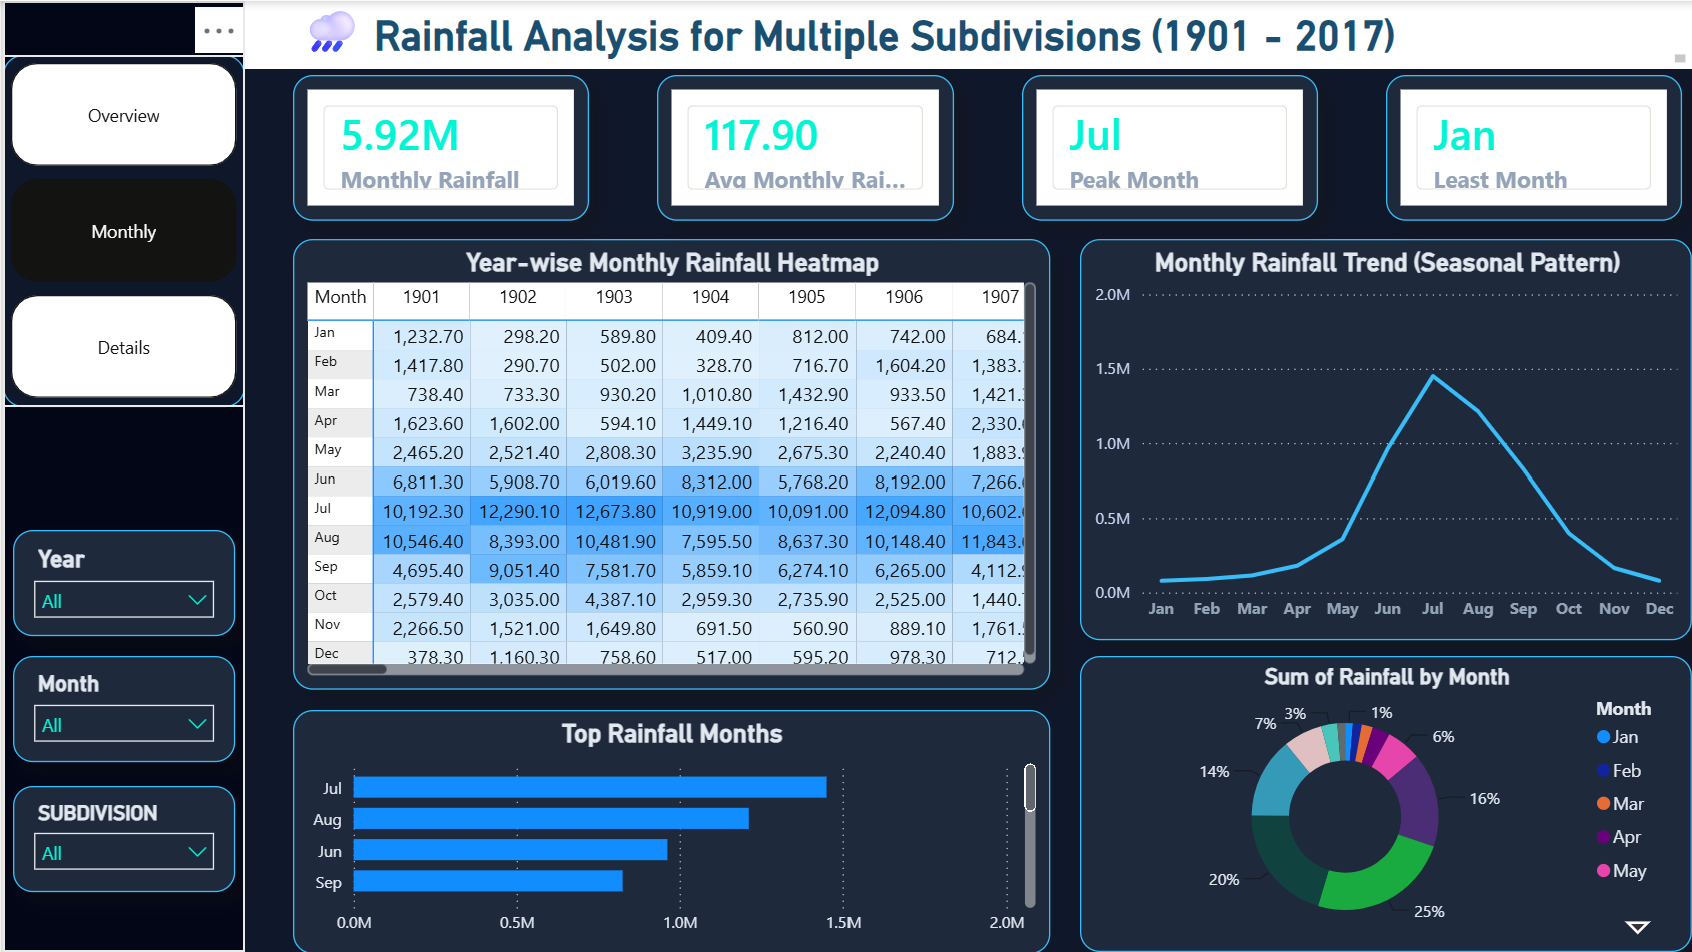

Layout of this report page (visuals, bound fields, positions):
{"tool":"powerbi","page":{"name":"Monthly ","canvas":[1280,720],"ordinal":1},"visuals":[{"type":"textbox","box":[0,0,1280,51.6],"z":0},{"type":"lineChart","title":"Monthly Rainfall Trend (Seasonal Pattern)","fields":{"Category":["Month Table.Month"],"Y":["Sub_Division_IMD_2017.Monthly Rainfall"]},"box":[815.9,180.5,464.1,303.3],"z":1000},{"type":"clusteredBarChart","title":"Top Rainfall Months","fields":{"Category":["Month Table.Month"],"Y":["Sub_Division_IMD_2017.Monthly Rainfall"]},"box":[219.9,536.9,573.3,185],"z":2000},{"type":"pivotTable","title":"Year-wise Monthly Rainfall Heatmap","fields":{"Columns":["Sub_Division_IMD_2017.Year"],"Rows":["Month Table.Month"],"Values":["Sub_Division_IMD_2017.Monthly Rainfall"]},"box":[219.9,180.5,573.3,341.2],"z":3000},{"type":"donutChart","fields":{"Category":["Month Table.Month"],"Y":["Sum(Sub_Division_IMD_2017.Rainfall)"]},"box":[815.9,495.9,464.1,224.5],"z":4000},{"type":"group","id":"g1","title":"Group 1","box":[0,0,183.5,720.4],"z":5000},{"type":"cardVisual","fields":{"Data":["Sub_Division_IMD_2017.Monthly Rainfall"]},"box":[219.9,56.1,224.5,110.7],"z":6000},{"type":"cardVisual","fields":{"Data":["Sub_Division_IMD_2017.Avg Monthly Rainfall"]},"box":[495.9,56.1,224.5,110.7],"z":7000},{"type":"shape","box":[0,0,183.5,720.4],"z":8000,"group":"g1"},{"type":"cardVisual","fields":{"Data":["Sub_Division_IMD_2017.Peak Name"]},"box":[771.9,56.1,224.5,110.7],"z":8000},{"type":"cardVisual","fields":{"Data":["Month Table.Least Month"]},"box":[1048,56.1,224.5,110.7],"z":9000},{"type":"slicer","fields":{"Values":["Sub_Division_IMD_2017.Year"]},"box":[7.6,400.4,168.3,80.4],"z":9000,"group":"g1"},{"type":"slicer","fields":{"Values":["Sub_Division_IMD_2017.SUBDIVISION"]},"box":[7.6,594.5,168.3,80.4],"z":10000,"group":"g1"},{"type":"bookmarkNavigator","box":[0,40.9,183.5,266.9],"z":11000,"group":"g1"},{"type":"slicer","fields":{"Values":["Month Table.Month"]},"box":[7.6,495.9,168.3,80.4],"z":12001,"group":"g1"}]}

Visuals, with their boxes on the page's 1280x720 design canvas (x1, y1, x2, y2). These are canvas units, not pixel positions in the 1692x952 screenshot, which may show the page scaled, cropped or inside an application window:
textbox: <region>0, 0, 1280, 52</region>
"Monthly Rainfall Trend (Seasonal Pattern)" lineChart: <region>816, 180, 1280, 484</region>
"Top Rainfall Months" clusteredBarChart: <region>220, 537, 793, 722</region>
"Year-wise Monthly Rainfall Heatmap" pivotTable: <region>220, 180, 793, 522</region>
donutChart - Month Table.Month x Sum(Sub_Division_IMD_2017.Rainfall): <region>816, 496, 1280, 720</region>
"Group 1" group: <region>0, 0, 184, 720</region>
cardVisual - Sub_Division_IMD_2017.Monthly Rainfall: <region>220, 56, 444, 167</region>
cardVisual - Sub_Division_IMD_2017.Avg Monthly Rainfall: <region>496, 56, 720, 167</region>
shape: <region>0, 0, 184, 720</region>
cardVisual - Sub_Division_IMD_2017.Peak Name: <region>772, 56, 996, 167</region>
cardVisual - Month Table.Least Month: <region>1048, 56, 1272, 167</region>
slicer - Sub_Division_IMD_2017.Year: <region>8, 400, 176, 481</region>
slicer - Sub_Division_IMD_2017.SUBDIVISION: <region>8, 594, 176, 675</region>
bookmarkNavigator: <region>0, 41, 184, 308</region>
slicer - Month Table.Month: <region>8, 496, 176, 576</region>
